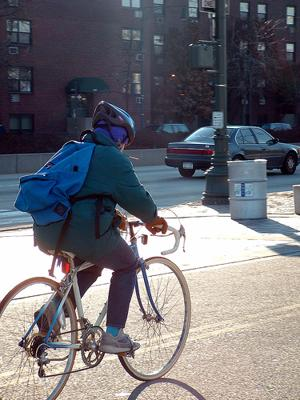person: (34, 101, 168, 357)
